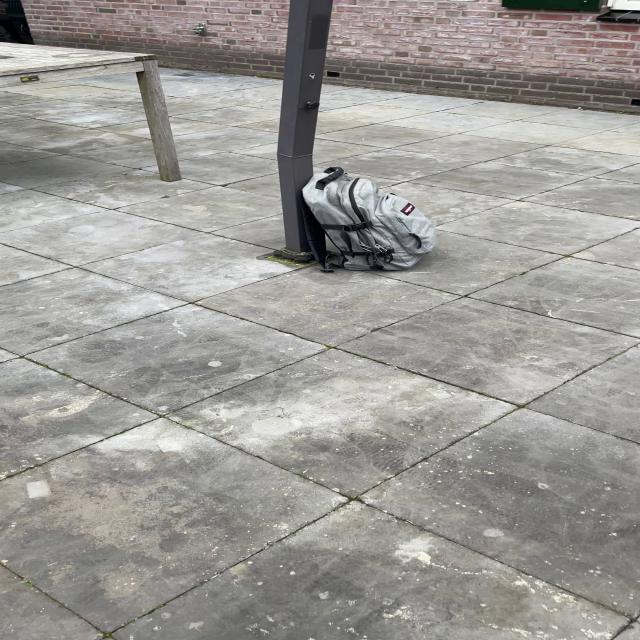backpack: (294, 165, 444, 276)
